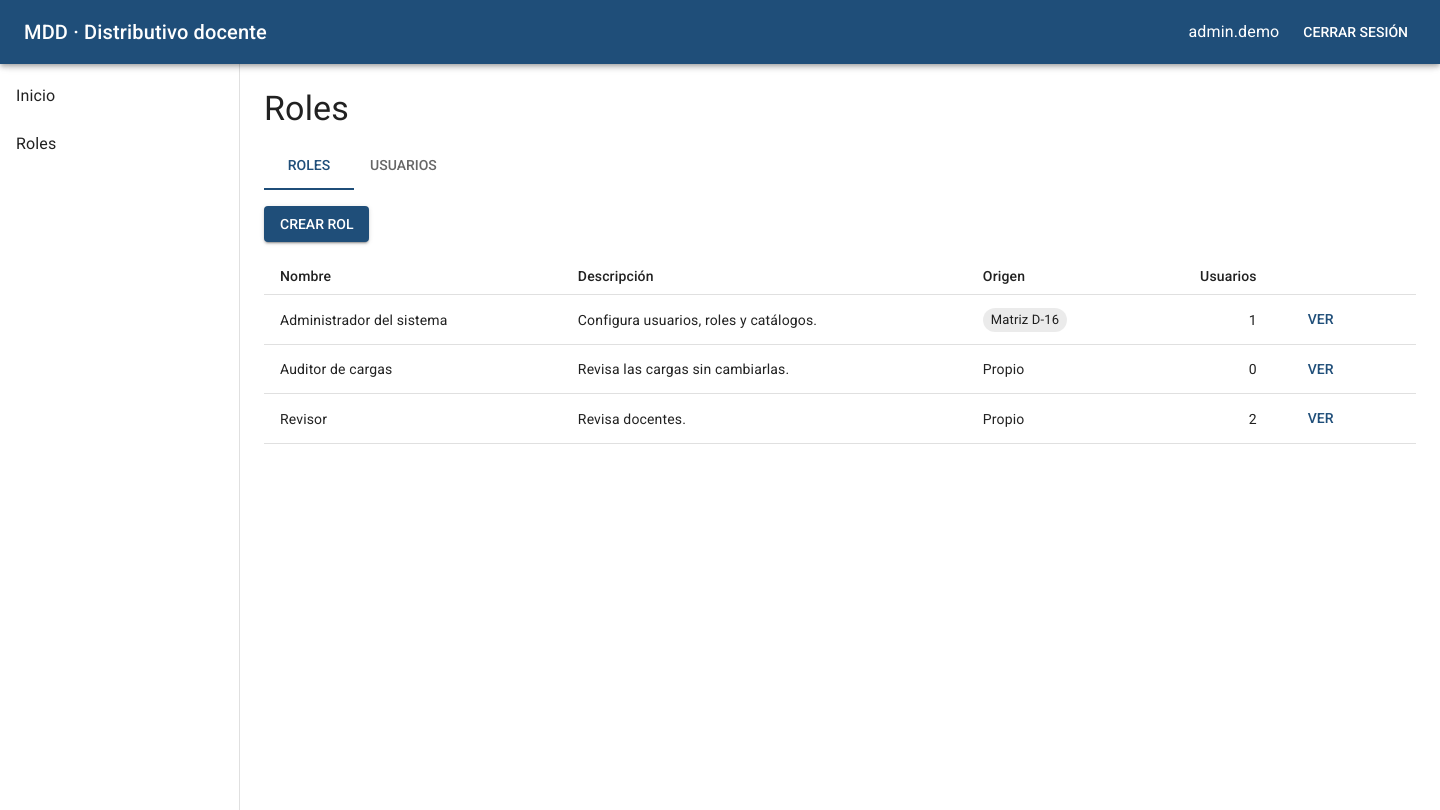
Roles › con el administrador › crea un rol con un selector por cada tipo que admite cada funcionalidad
This screenshot has width=1440, height=810.
Click the button "Crear rol".
click(317, 224)  # box [264,206,370,242]
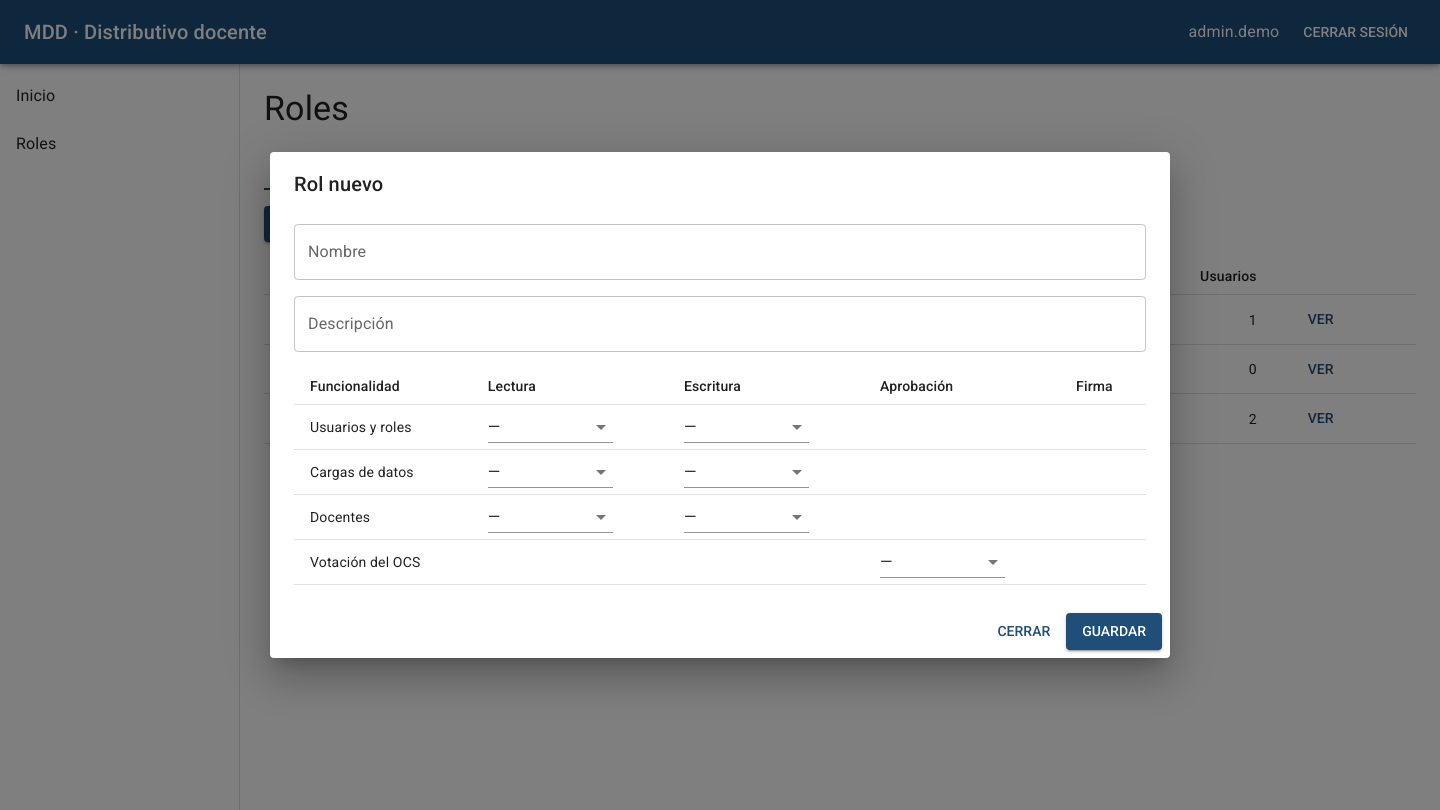
Now the number of dropdowns is 7
Type "Auditor de roles" into the field labelled "Nombre".
click(720, 252); type("Auditor de roles")  # box [294,224,1146,280]
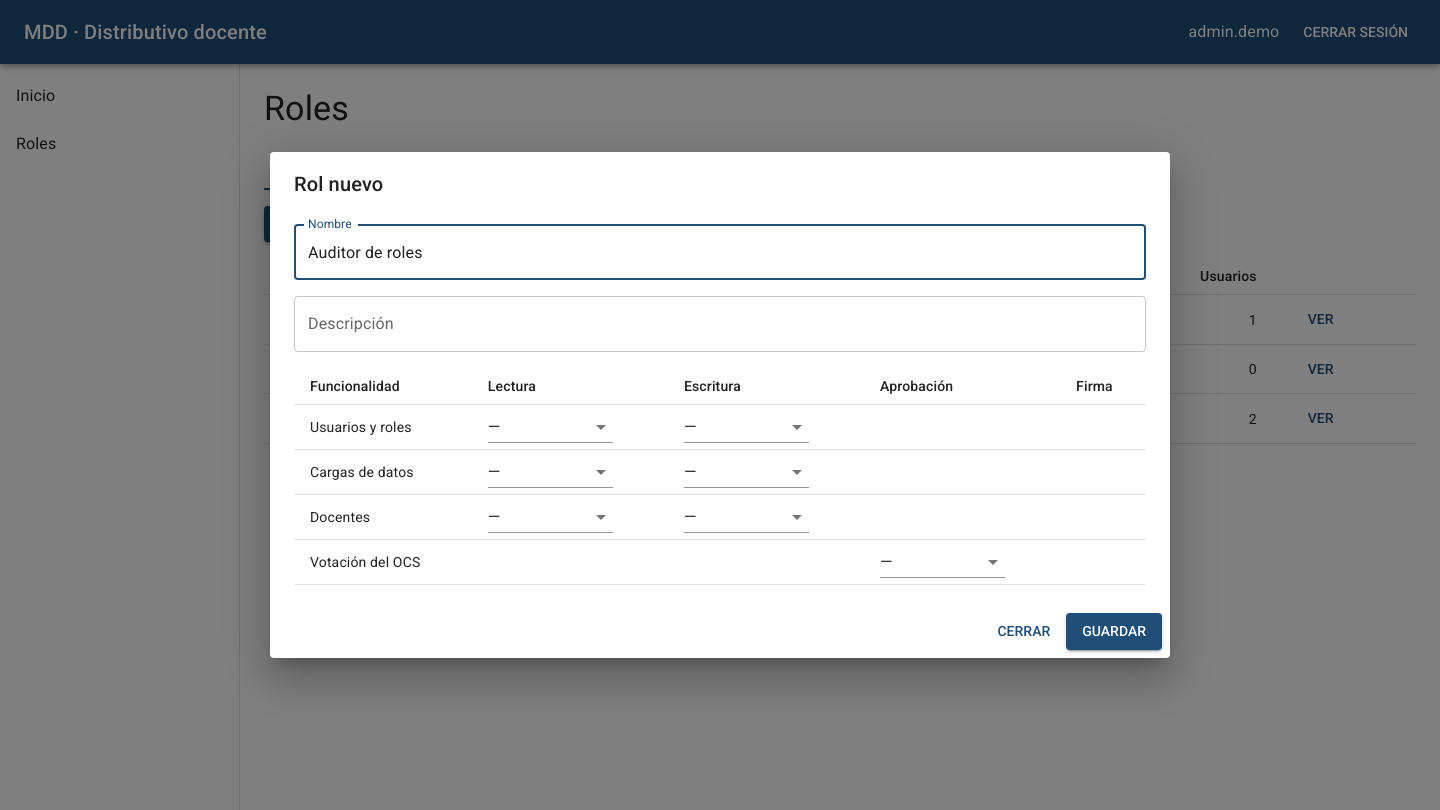
Type "Ve los roles." into the text box labelled "Descripción".
click(720, 324); type("Ve los roles.")  # box [308,313,1132,336]
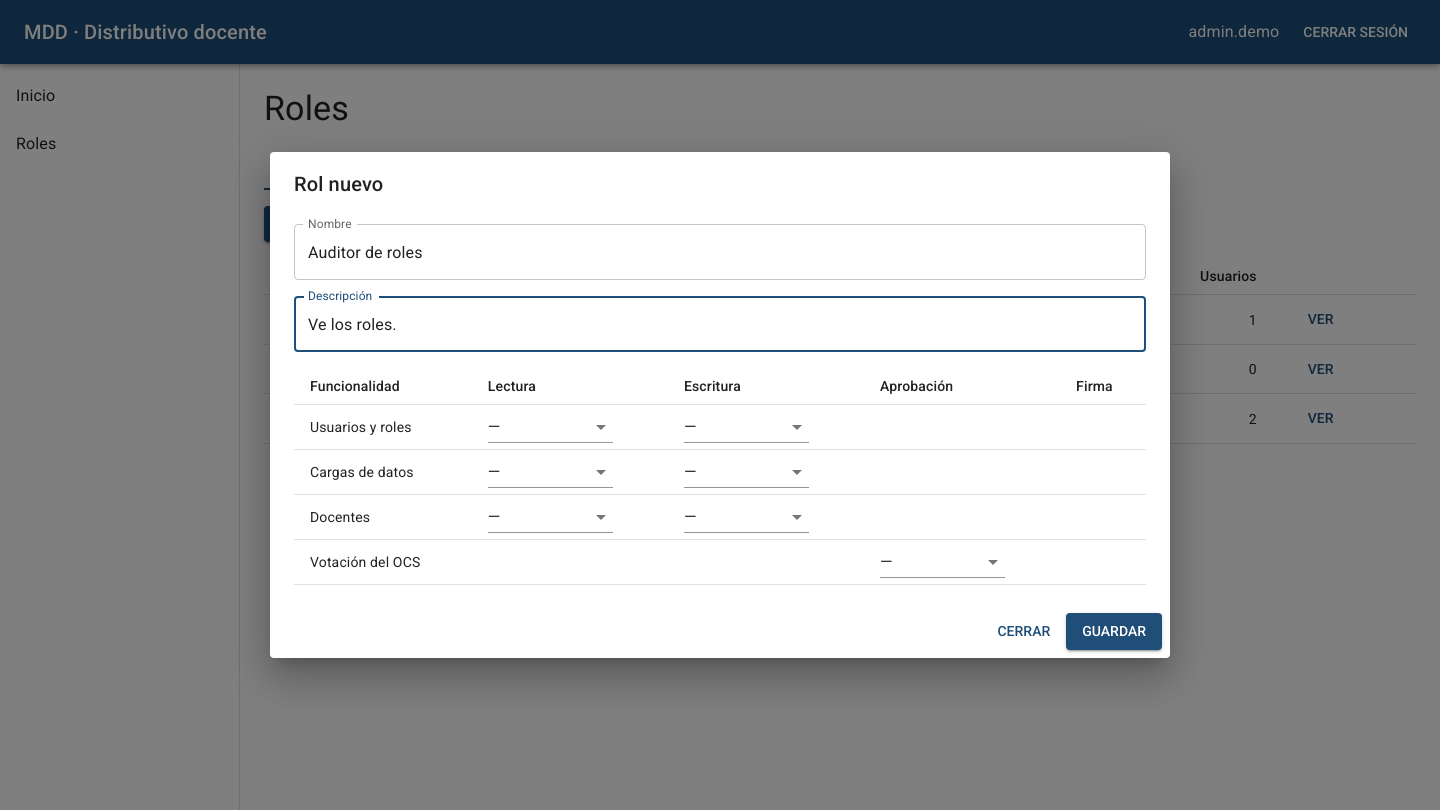
Select "Todo" in the dropdown named "Usuarios y roles: lectura" at (550, 427), box [488,411,613,443]
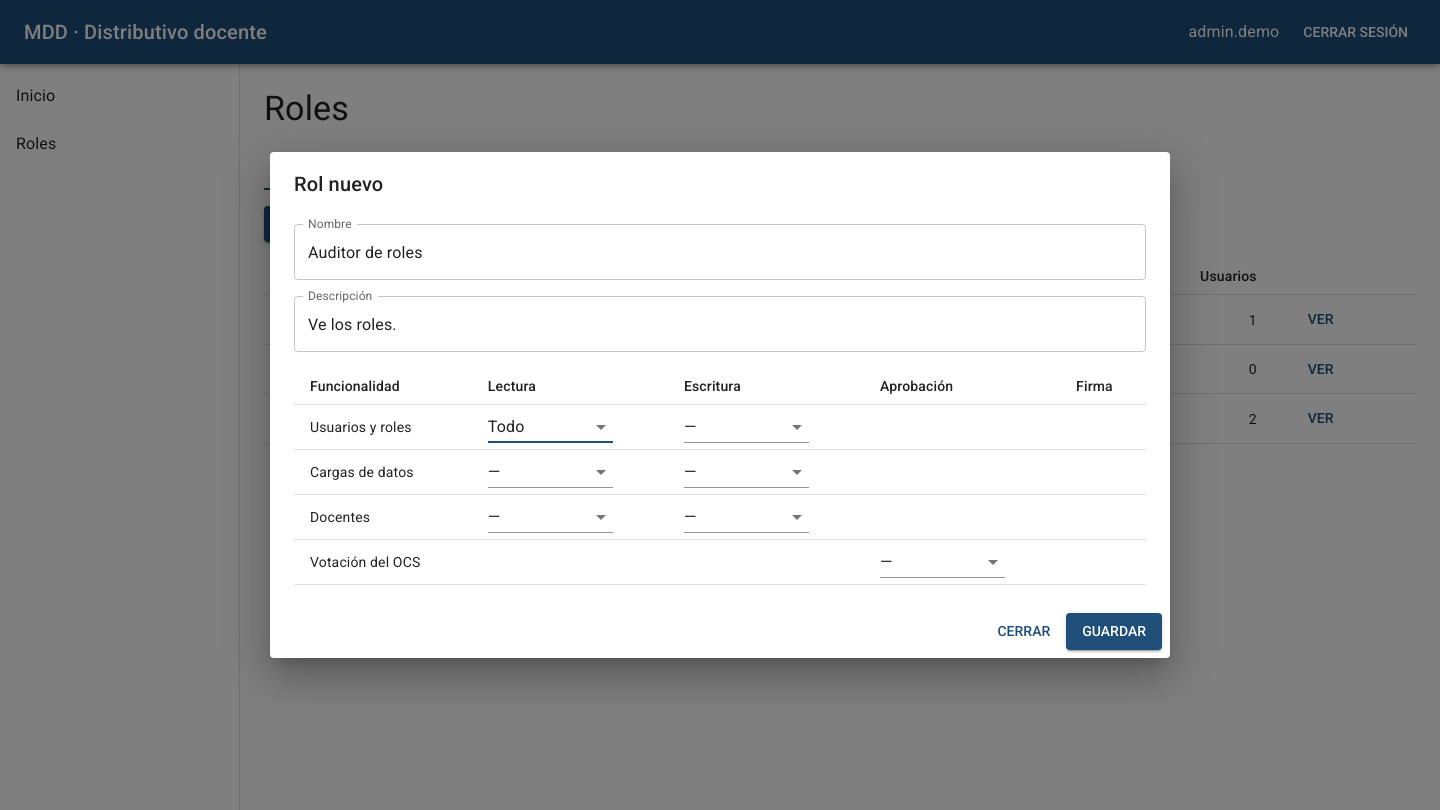
Select "Solo lo propio" in the dropdown named "Docentes: lectura" at (550, 517), box [488,501,613,533]
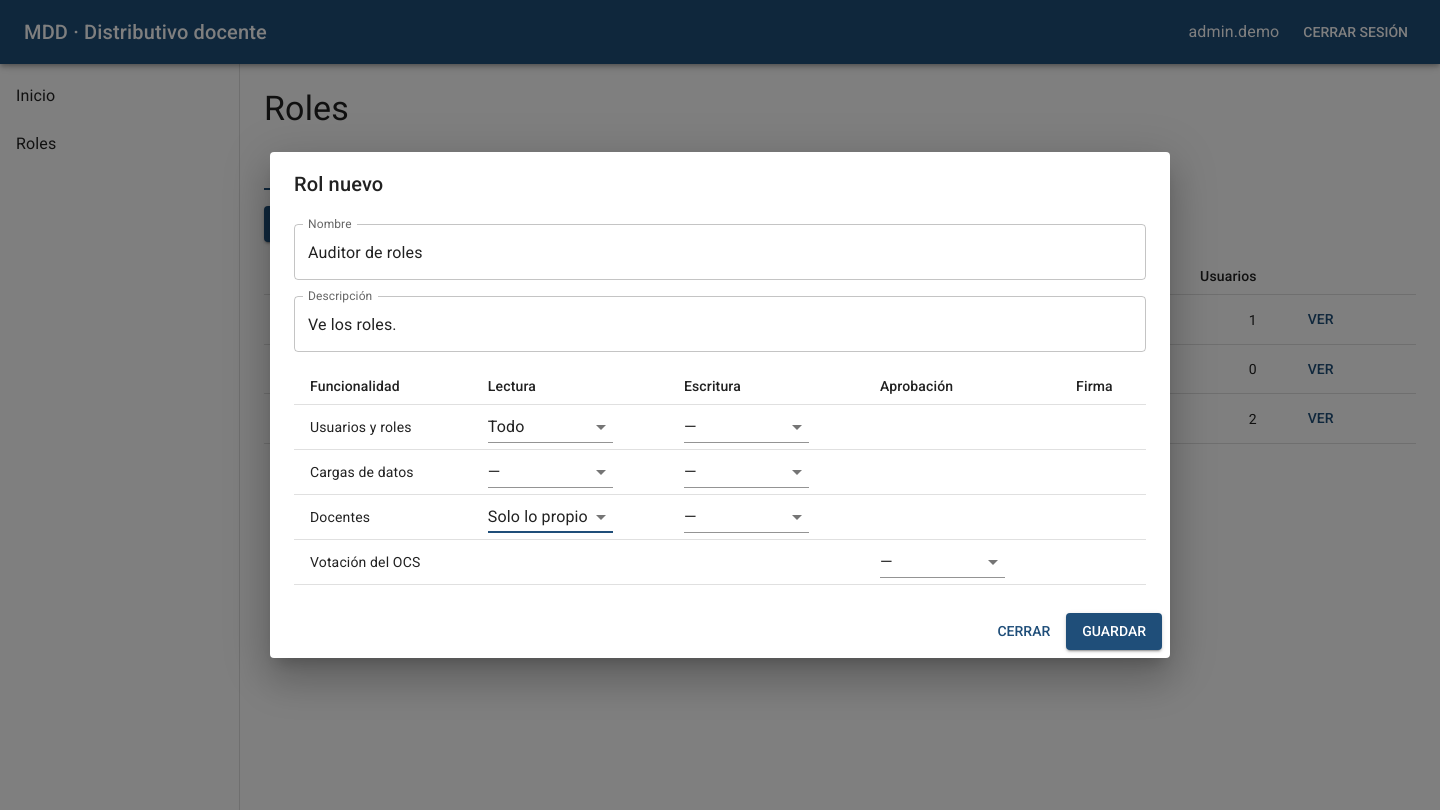
Click the button "Guardar".
click(1114, 632)  # box [1066,613,1162,650]
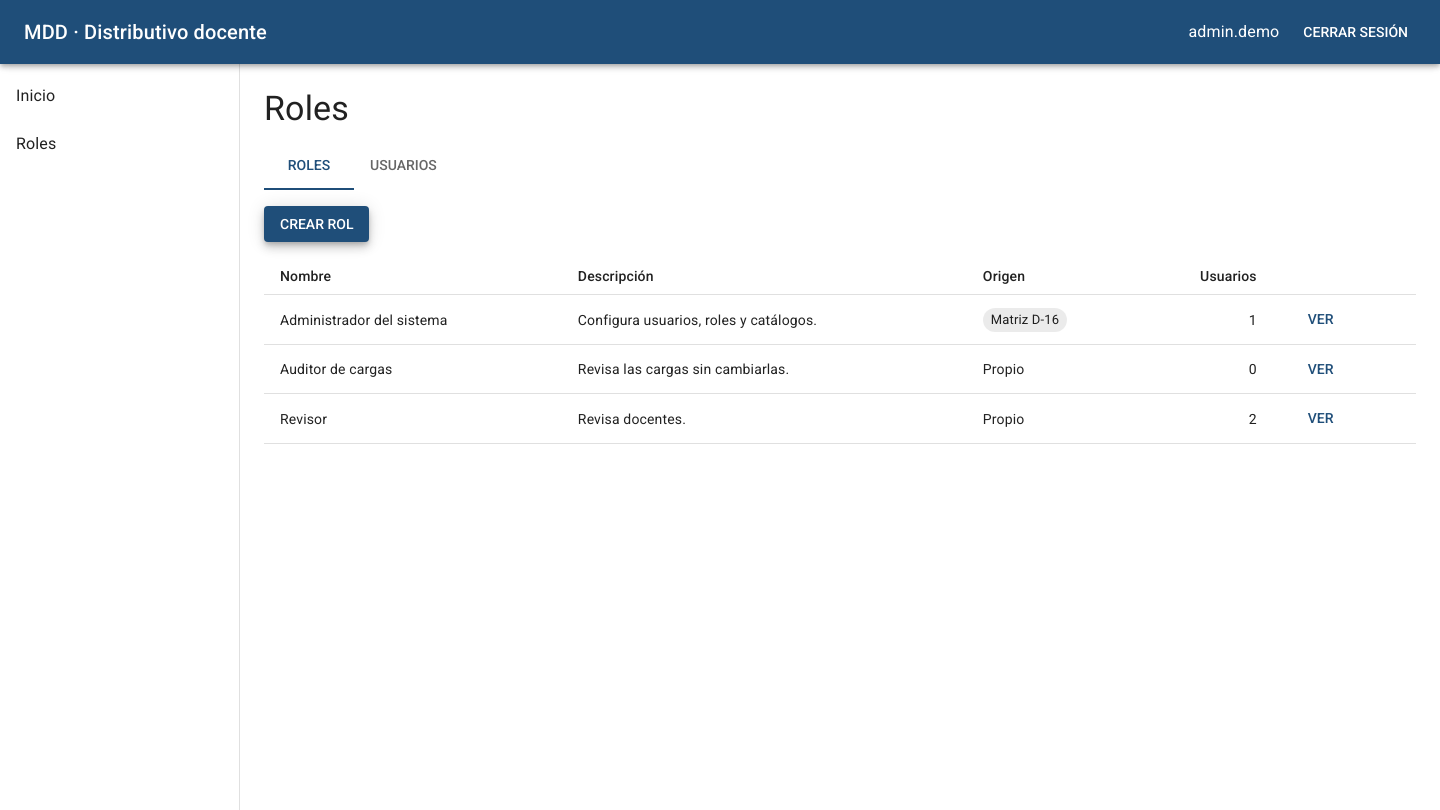
Now the heading "Rol nuevo" is gone
